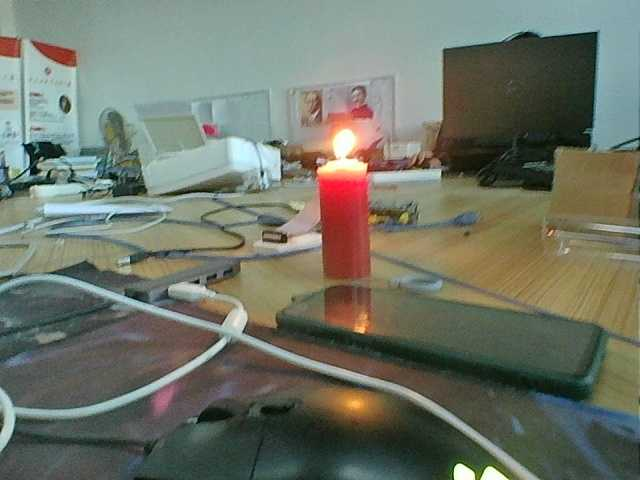candle: (312, 166, 381, 280)
fire: (324, 125, 365, 163)
